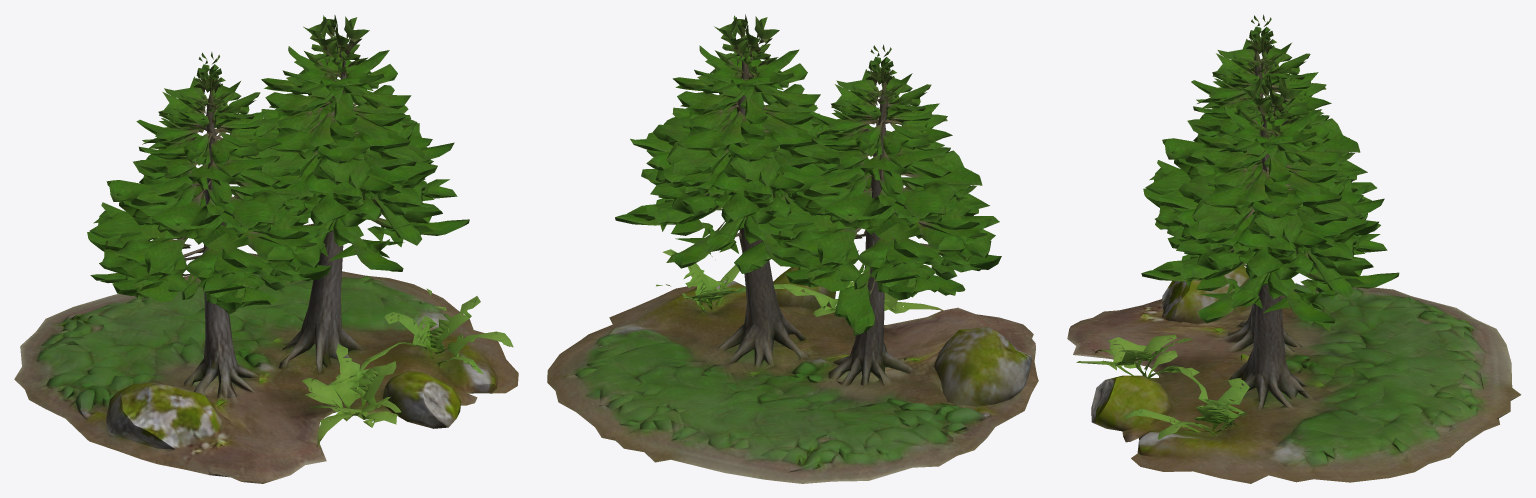
The model's file is forest.glb.
The picture shows the model from 3 angles, left to right: view 1: azimuth 30°, elevation 25°; view 2: azimuth 150°, elevation 25°; view 3: azimuth 270°, elevation 25°; orthographic projection. The views are drawn at different scales.
Visible parts, largest first — view 1: Mesh; view 2: Mesh; view 3: Mesh.
Boxes of the visible parts, box(x1,y1,x2,y2) form: Mesh: box(14, 15, 518, 483); Mesh: box(547, 14, 1038, 483); Mesh: box(1067, 14, 1521, 483).
Bounding box in the file's own units: 1.83 × 1.45 × 1.78.
Materials: 1 (1 with a texture image).
